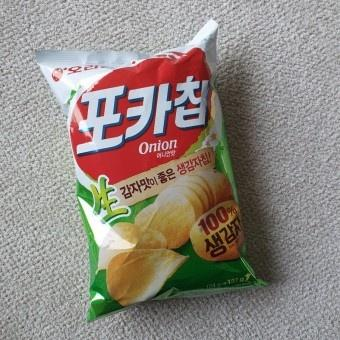snack: (34, 18, 271, 324)
